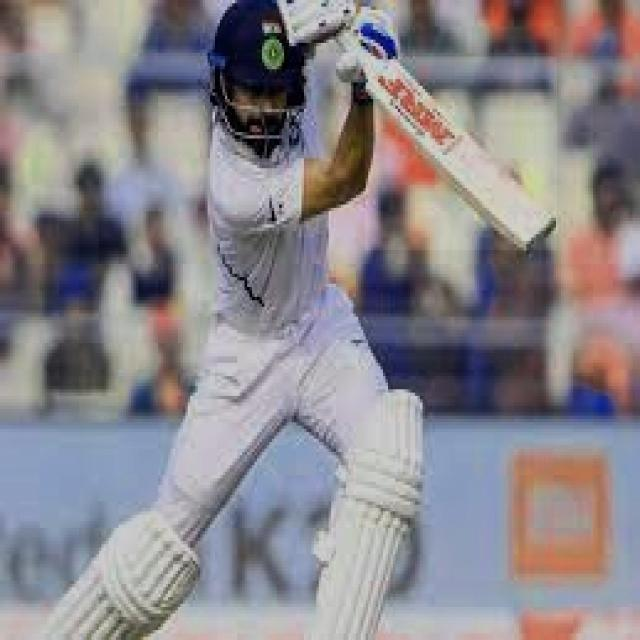bat: (370, 56, 564, 251)
toe: (521, 226, 557, 247)
